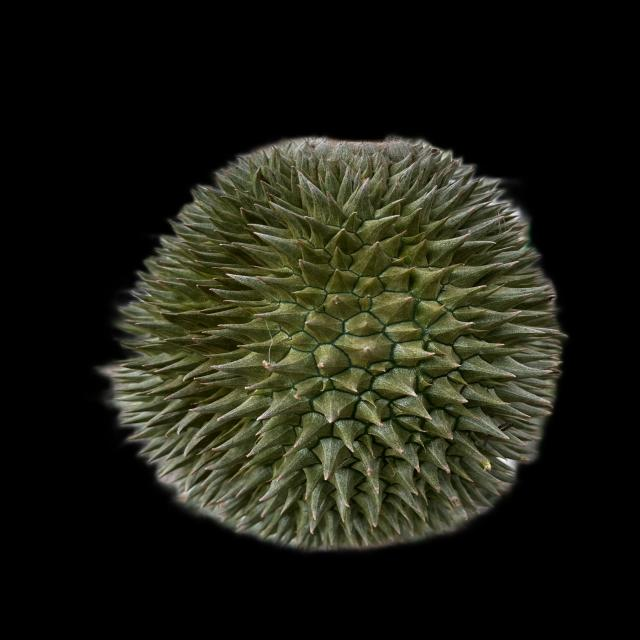immature: (89, 140, 572, 552)
